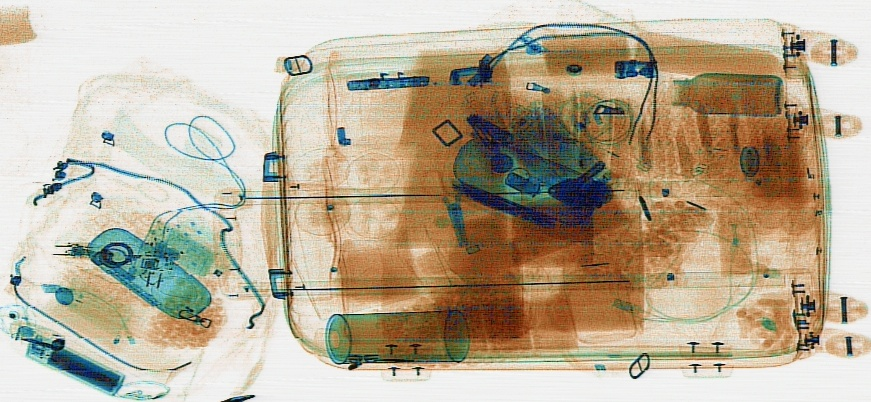scissors: (417, 161, 482, 252)
